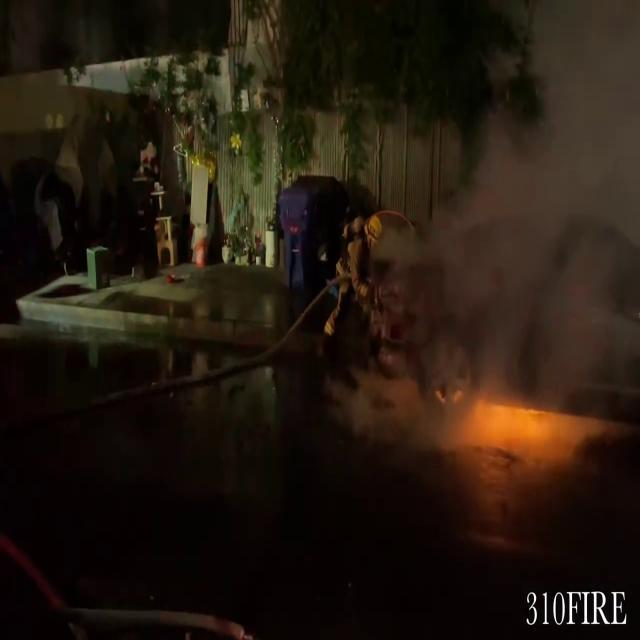Smoke: (400, 0, 640, 359)
